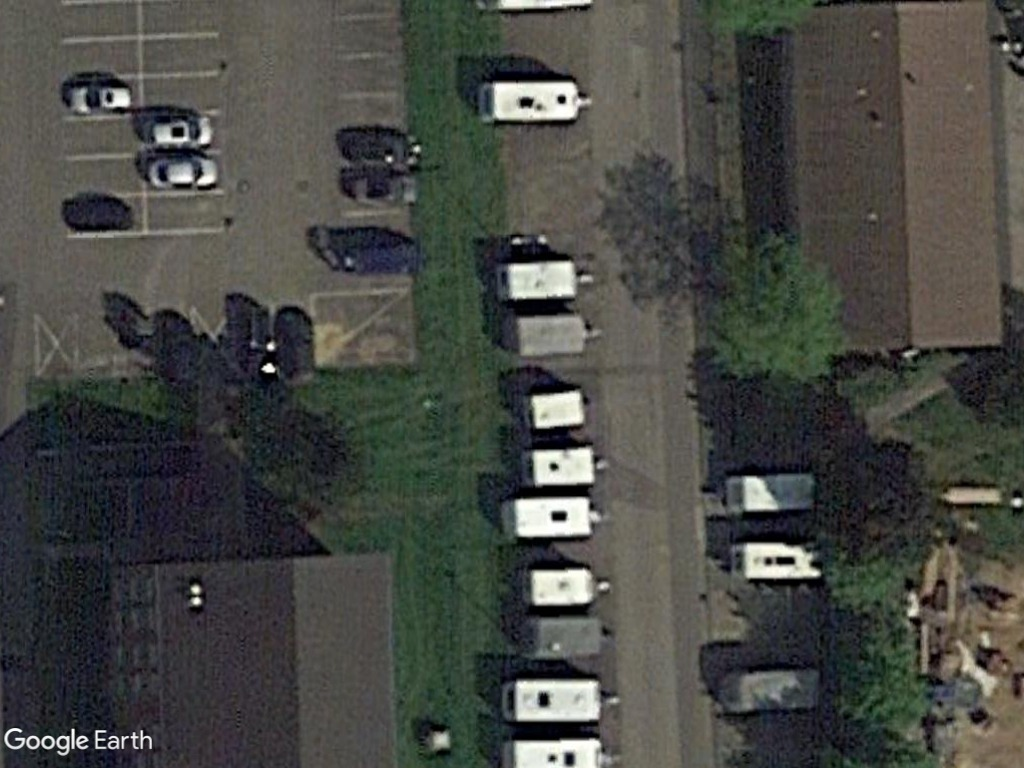car: (138, 99, 222, 157), (54, 68, 141, 121), (130, 153, 224, 199)
